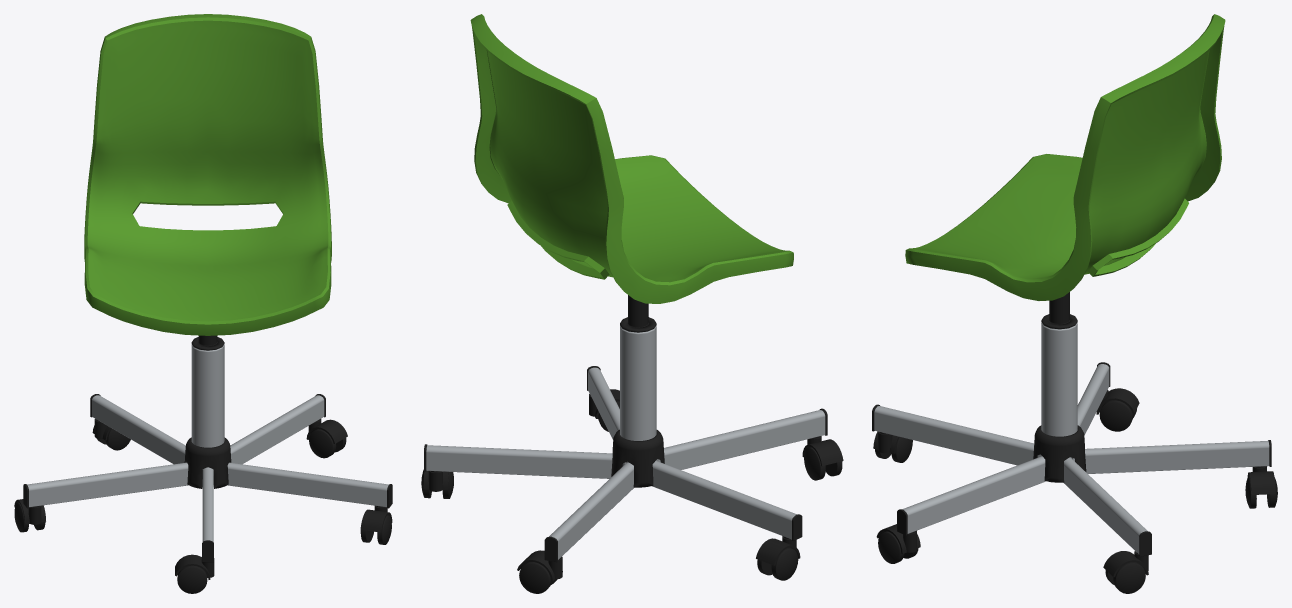
The model's file is SNILLE_chair_1_obj0_object.obj.
3 views of the same model, side by side, from view 1: azimuth 30°, elevation 25°; view 2: azimuth 150°, elevation 25°; view 3: azimuth 270°, elevation 25° (orthographic). The views are drawn at different scales.
Parts seen in each view (by area): view 1: Mesh2 Group2 SNILLE_IKEA1 Model, Mesh8 Group6 SNILLE_IKEA1 Model, Mesh7 Group5 SNILLE_IKEA1 Model, Mesh1 Group1 SNILLE_IKEA1 Model, Mesh23 ROULETTE5 SNILLE_IKEA1 Model, Mesh19 ROULETTE4 SNILLE_IKEA1 Model, Mesh9 ROULETTE1 SNILLE_IKEA1 Model, Mesh18 ROULETTE4 SNILLE_IKEA1 Model, Mesh21 ROULETTE5 SNILLE_IKEA1 Model; view 2: Mesh2 Group2 SNILLE_IKEA1 Model, Mesh8 Group6 SNILLE_IKEA1 Model, Mesh7 Group5 SNILLE_IKEA1 Model, Mesh1 Group1 SNILLE_IKEA1 Model, Mesh3 Group3 SNILLE_IKEA1 Model, Mesh14 ROULETTE2 SNILLE_IKEA1 Model, Mesh21 ROULETTE5 SNILLE_IKEA1 Model, Mesh15 ROULETTE3 SNILLE_IKEA1 Model, Mesh17 ROULETTE3 SNILLE_IKEA1 Model, Mesh12 ROULETTE2 SNILLE_IKEA1 Model; view 3: Mesh2 Group2 SNILLE_IKEA1 Model, Mesh8 Group6 SNILLE_IKEA1 Model, Mesh7 Group5 SNILLE_IKEA1 Model, Mesh1 Group1 SNILLE_IKEA1 Model, Mesh16 ROULETTE3 SNILLE_IKEA1 Model, Mesh3 Group3 SNILLE_IKEA1 Model, Mesh20 ROULETTE4 SNILLE_IKEA1 Model, Mesh12 ROULETTE2 SNILLE_IKEA1 Model, Mesh18 ROULETTE4 SNILLE_IKEA1 Model, Mesh11 ROULETTE1 SNILLE_IKEA1 Model, Mesh9 ROULETTE1 SNILLE_IKEA1 Model, Mesh15 ROULETTE3 SNILLE_IKEA1 Model.
Boxes of the visible parts, bbox=[...] form: Mesh2 Group2 SNILLE_IKEA1 Model: bbox=[84, 14, 331, 335]; Mesh8 Group6 SNILLE_IKEA1 Model: bbox=[23, 394, 392, 562]; Mesh7 Group5 SNILLE_IKEA1 Model: bbox=[191, 344, 224, 447]; Mesh1 Group1 SNILLE_IKEA1 Model: bbox=[184, 437, 231, 488]; Mesh23 ROULETTE5 SNILLE_IKEA1 Model: bbox=[177, 565, 207, 593]; Mesh19 ROULETTE4 SNILLE_IKEA1 Model: bbox=[309, 429, 336, 458]; Mesh9 ROULETTE1 SNILLE_IKEA1 Model: bbox=[360, 505, 392, 532]; Mesh18 ROULETTE4 SNILLE_IKEA1 Model: bbox=[306, 419, 347, 443]; Mesh21 ROULETTE5 SNILLE_IKEA1 Model: bbox=[175, 554, 214, 579]; Mesh2 Group2 SNILLE_IKEA1 Model: bbox=[470, 14, 793, 303]; Mesh8 Group6 SNILLE_IKEA1 Model: bbox=[424, 366, 827, 562]; Mesh7 Group5 SNILLE_IKEA1 Model: bbox=[620, 325, 656, 440]; Mesh1 Group1 SNILLE_IKEA1 Model: bbox=[611, 429, 664, 487]; Mesh3 Group3 SNILLE_IKEA1 Model: bbox=[620, 295, 656, 332]; Mesh14 ROULETTE2 SNILLE_IKEA1 Model: bbox=[519, 562, 551, 593]; Mesh21 ROULETTE5 SNILLE_IKEA1 Model: bbox=[802, 436, 843, 466]; Mesh15 ROULETTE3 SNILLE_IKEA1 Model: bbox=[756, 536, 800, 565]; Mesh17 ROULETTE3 SNILLE_IKEA1 Model: bbox=[771, 547, 798, 580]; Mesh12 ROULETTE2 SNILLE_IKEA1 Model: bbox=[517, 550, 562, 581]; Mesh2 Group2 SNILLE_IKEA1 Model: bbox=[905, 14, 1225, 300]; Mesh8 Group6 SNILLE_IKEA1 Model: bbox=[872, 362, 1271, 556]; Mesh7 Group5 SNILLE_IKEA1 Model: bbox=[1041, 322, 1077, 436]; Mesh1 Group1 SNILLE_IKEA1 Model: bbox=[1033, 425, 1086, 482]; Mesh16 ROULETTE3 SNILLE_IKEA1 Model: bbox=[1099, 400, 1133, 431]; Mesh3 Group3 SNILLE_IKEA1 Model: bbox=[1041, 292, 1077, 329]; Mesh20 ROULETTE4 SNILLE_IKEA1 Model: bbox=[1113, 562, 1145, 593]; Mesh12 ROULETTE2 SNILLE_IKEA1 Model: bbox=[1247, 466, 1275, 494]; Mesh18 ROULETTE4 SNILLE_IKEA1 Model: bbox=[1103, 551, 1148, 577]; Mesh11 ROULETTE1 SNILLE_IKEA1 Model: bbox=[878, 531, 904, 563]; Mesh9 ROULETTE1 SNILLE_IKEA1 Model: bbox=[876, 524, 920, 553]; Mesh15 ROULETTE3 SNILLE_IKEA1 Model: bbox=[1096, 388, 1139, 414].
Size of the model in its own units: 27.53 by 35.23 by 26.6.
